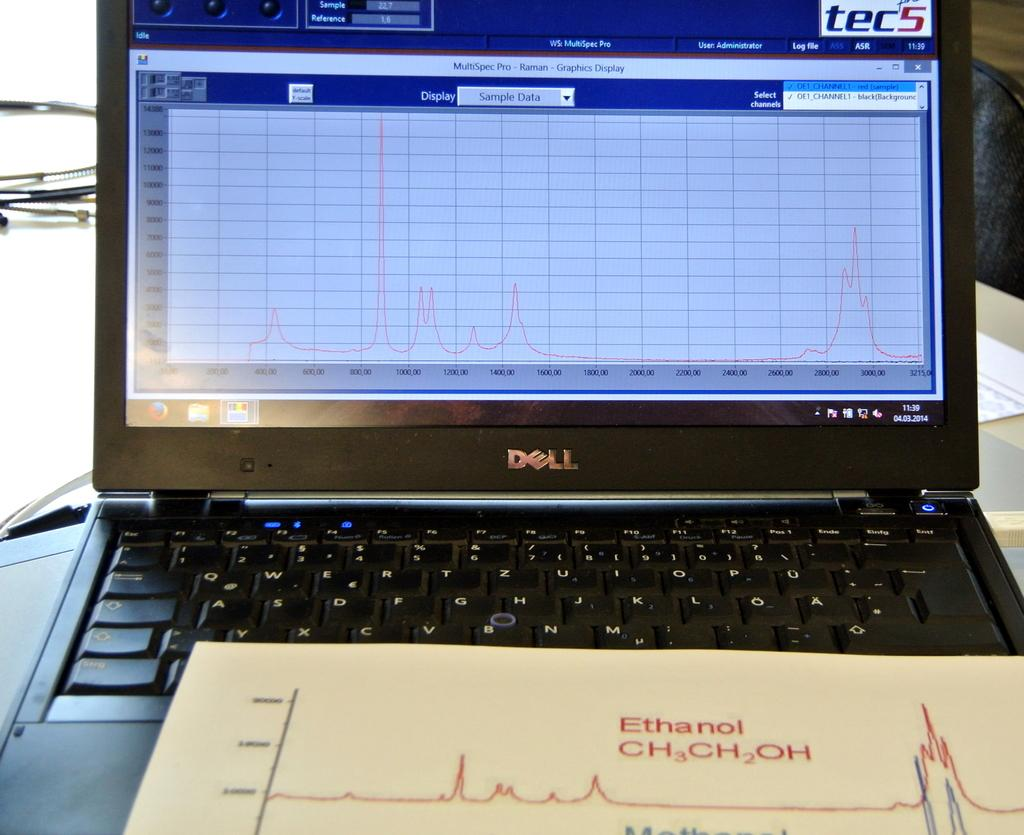Computer-keyboard: (61, 519, 1018, 696)
Laptop: (0, 33, 1024, 742)
